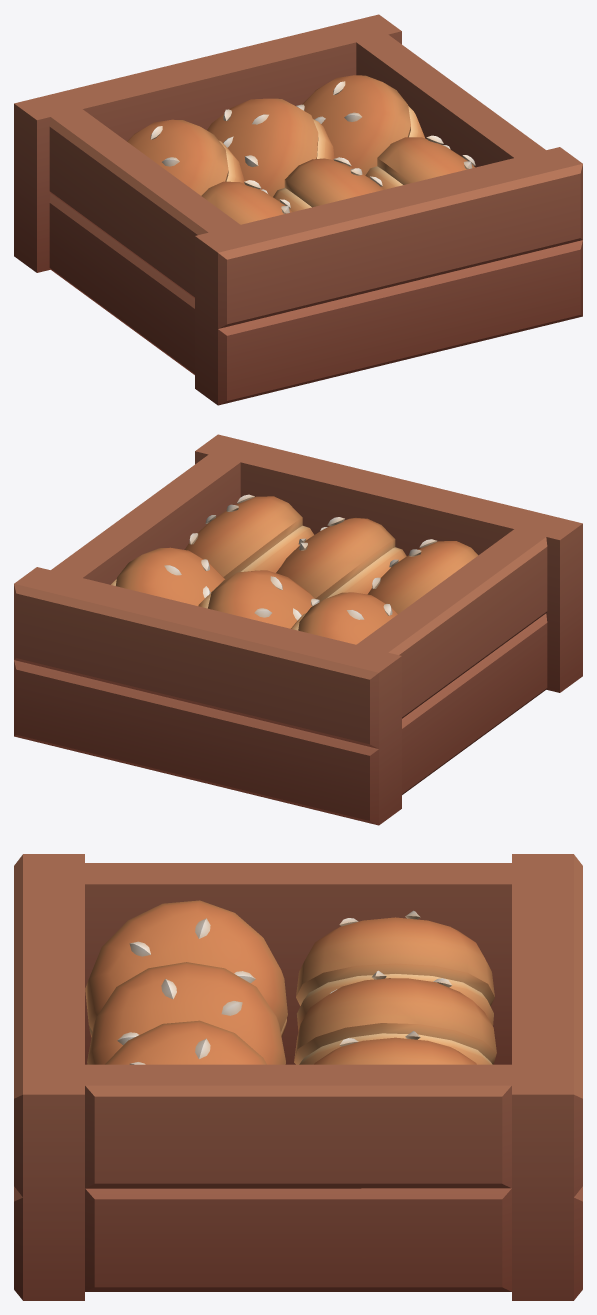
The model's file is kay-crate_buns.glb.
3 renders of one model, top to bottom at view 1: azimuth 30°, elevation 25°; view 2: azimuth 150°, elevation 25°; view 3: azimuth 270°, elevation 25°, orthographic. The views are drawn at different scales.
Parts seen in each view (by area): view 1: crate_buns; view 2: crate_buns; view 3: crate_buns.
Boxes of the visible parts, bbox=[...] form: crate_buns: bbox=[14, 14, 582, 405]; crate_buns: bbox=[14, 434, 582, 825]; crate_buns: bbox=[14, 854, 582, 1300].
Bounding box in the file's own units: 0.6 × 0.2407 × 0.6.
Materials: 1 (1 with a texture image).
